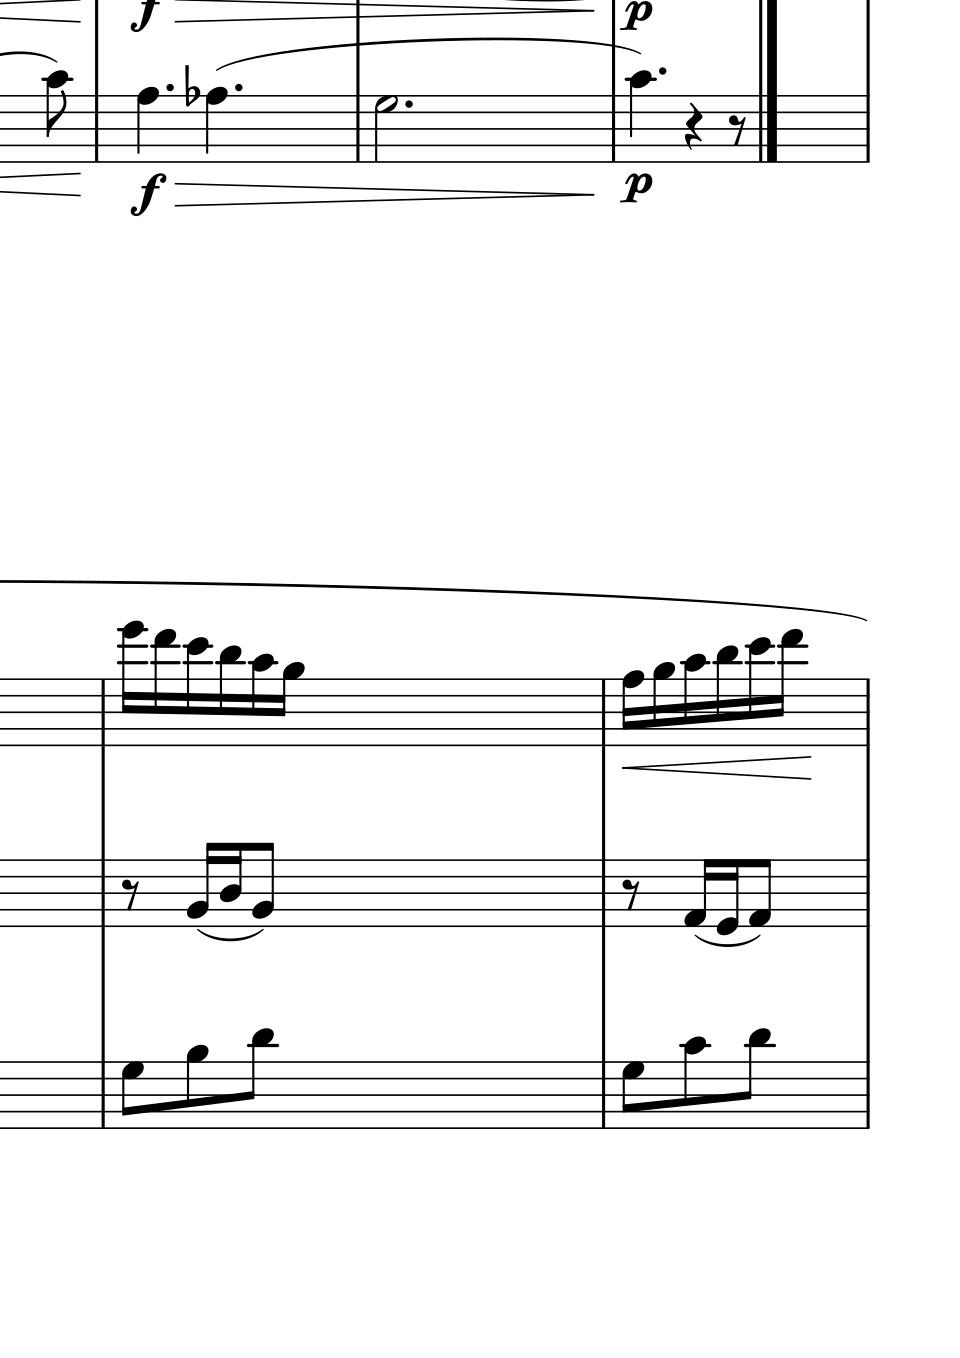16_0: (715, 857, 740, 936)
16_1: (681, 858, 715, 930), (746, 856, 773, 931)
16_10: (248, 653, 275, 748), (679, 653, 706, 747)
16_11: (215, 644, 242, 749), (713, 644, 739, 749)
16_12: (183, 638, 210, 748), (745, 638, 772, 747)
16_13: (773, 629, 805, 747), (151, 629, 177, 747)
16_14: (117, 621, 144, 747)
16_2: (183, 838, 216, 929), (250, 841, 275, 929)
16_4: (218, 840, 243, 928)
16_8: (619, 669, 643, 747)
16_9: (274, 660, 304, 750), (650, 661, 675, 748)
2_7: (372, 94, 400, 165)
4_10: (625, 69, 655, 165)
4_8: (132, 85, 160, 164), (203, 86, 226, 165)
8_10: (41, 69, 73, 166), (679, 1036, 708, 1131)
8_11: (735, 1026, 774, 1131), (241, 1026, 276, 1130)
8_7: (620, 1058, 647, 1129), (119, 1059, 145, 1130)
8_9: (184, 1044, 209, 1131)
Crescendo_hairpin: (621, 752, 809, 782)
Final_barline: (751, 95, 781, 162)
Flat: (180, 61, 199, 110)
Rests4: (681, 101, 704, 153)
Rests8: (118, 876, 142, 912), (619, 876, 641, 913), (725, 113, 747, 149)
Single_barline: (857, 95, 876, 162), (94, 680, 112, 747), (94, 859, 112, 927), (857, 860, 876, 927), (594, 1062, 613, 1128), (605, 96, 622, 163), (94, 1061, 111, 1128), (858, 1062, 876, 1129), (594, 859, 612, 926), (349, 96, 367, 161), (595, 680, 612, 746), (859, 680, 875, 746), (88, 95, 103, 161)
dot: (401, 96, 416, 112), (655, 65, 668, 79), (162, 81, 176, 94), (232, 81, 244, 95)
f: (128, 172, 166, 217), (125, 1, 168, 33)
p: (618, 171, 655, 208), (621, 1, 654, 32)
